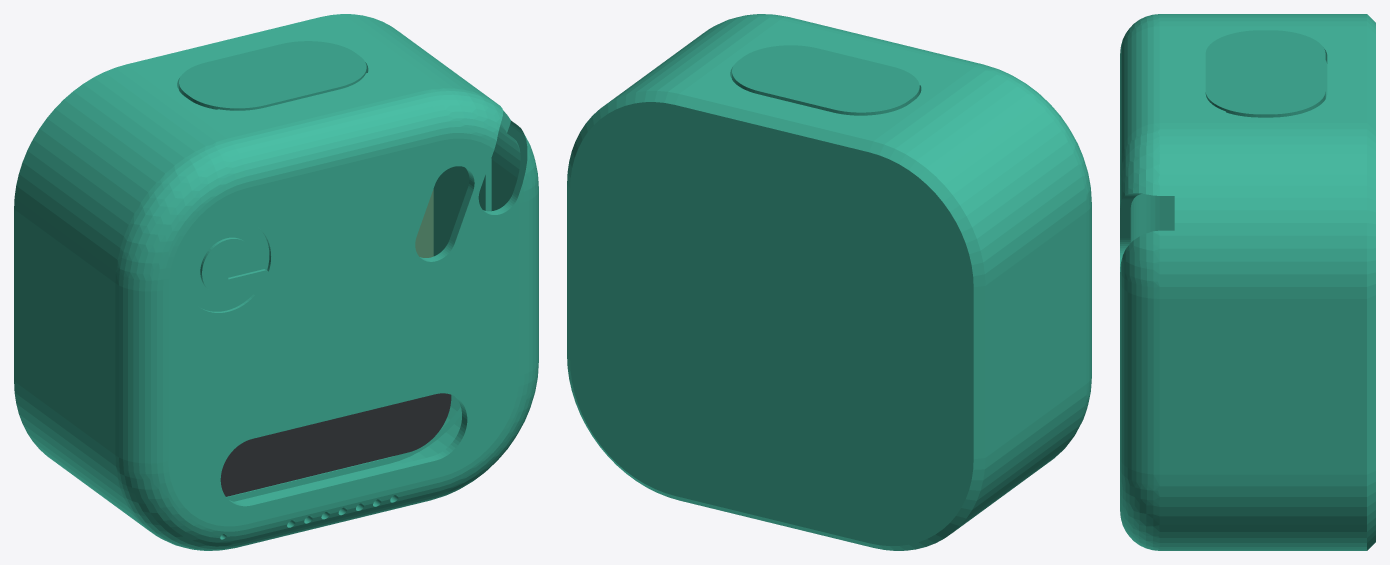
The model's file is galatiqon.glb.
3 renders of one model, left to right at view 1: azimuth 30°, elevation 25°; view 2: azimuth 150°, elevation 25°; view 3: azimuth 270°, elevation 25°, orthographic. The views are drawn at different scales.
Parts seen in each view (by area): view 1: face, body, screen, button, pi; view 2: body, face, button; view 3: body, face, button.
Part boxes in pixels (<box>): face: <box>83,64,538,550</box>; body: <box>14,14,492,505</box>; screen: <box>220,393,451,496</box>; button: <box>178,41,366,110</box>; pi: <box>415,189,433,257</box>; body: <box>567,40,1054,550</box>; face: <box>677,14,1091,480</box>; button: <box>731,45,919,115</box>; body: <box>1226,14,1375,550</box>; face: <box>1120,14,1225,550</box>; button: <box>1205,30,1327,117</box>.
Bounding box in the file's own units: 0.112 × 0.1046 × 0.058.
